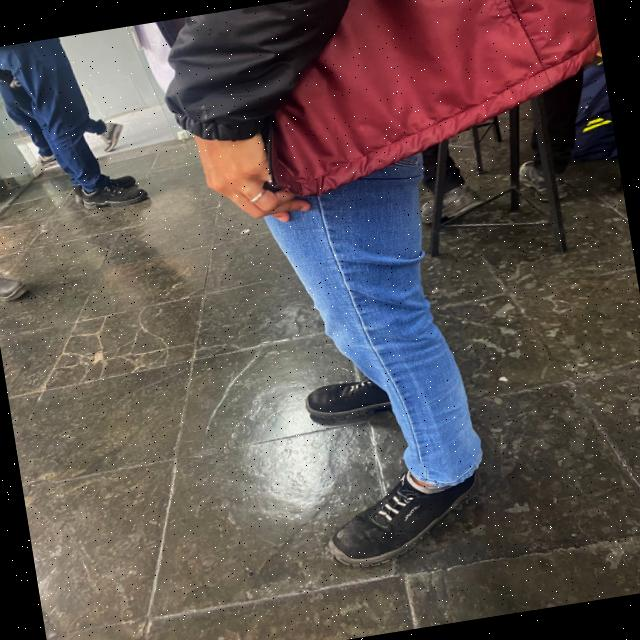BOTA: (317, 452, 492, 580), (300, 349, 483, 424), (416, 178, 496, 228), (69, 167, 146, 211), (507, 156, 566, 208), (0, 271, 28, 302)
SEM BOTA: (97, 119, 126, 162), (39, 155, 62, 175)
SEM LUVA: (193, 121, 322, 230)
